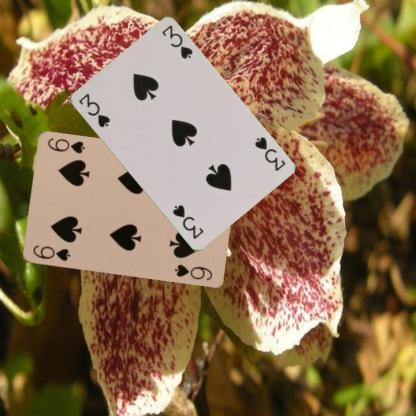3s: (75, 91, 111, 129), (252, 134, 286, 173)
6s: (30, 242, 71, 262)
